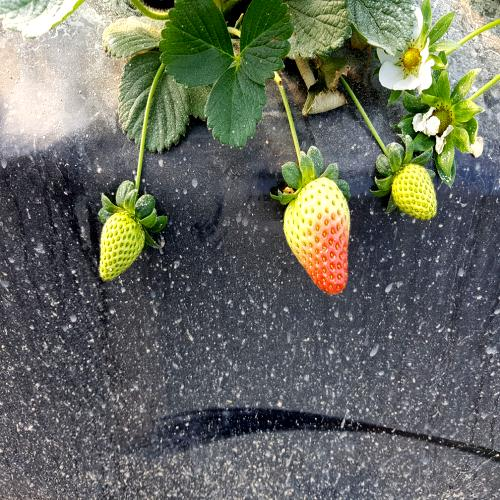partially-ripe: (272, 170, 363, 308)
